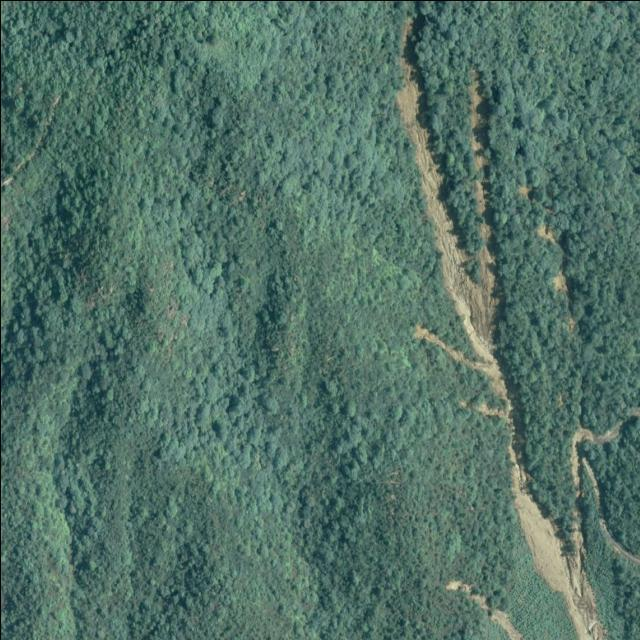landslide: (397, 17, 606, 640)
